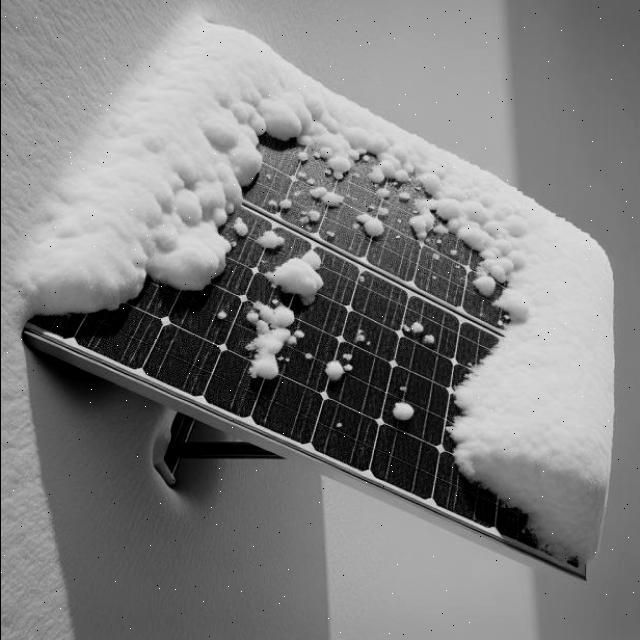Anomaly Solar Panel: (23, 13, 618, 577)
Snow: (27, 21, 615, 572), (260, 243, 342, 323), (317, 343, 364, 393), (391, 314, 441, 354), (386, 385, 423, 428)
